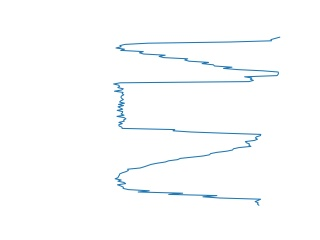distributaryChannelFill: (110, 73, 266, 141)
mouthBar: (112, 35, 284, 77)
underwaterDistributaryChannel: (111, 140, 263, 208)
